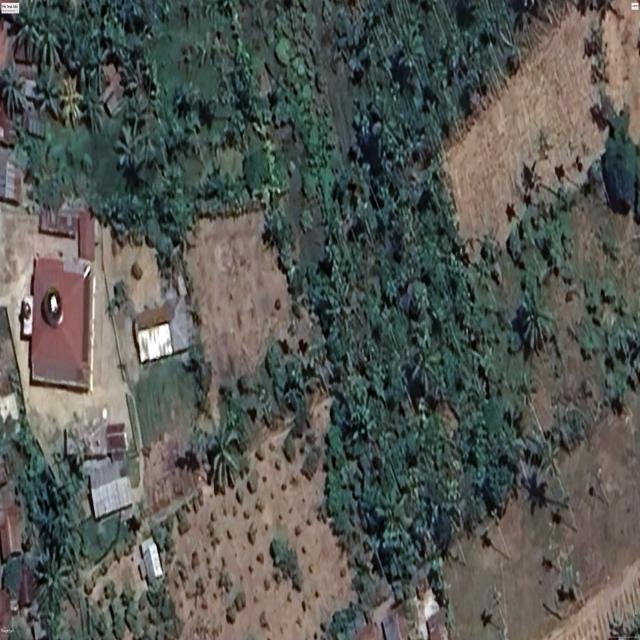mosque: (21, 255, 95, 392)
